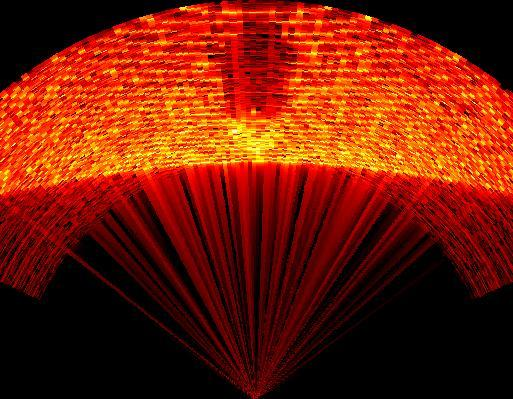box_crate: (216, 18, 300, 122)
